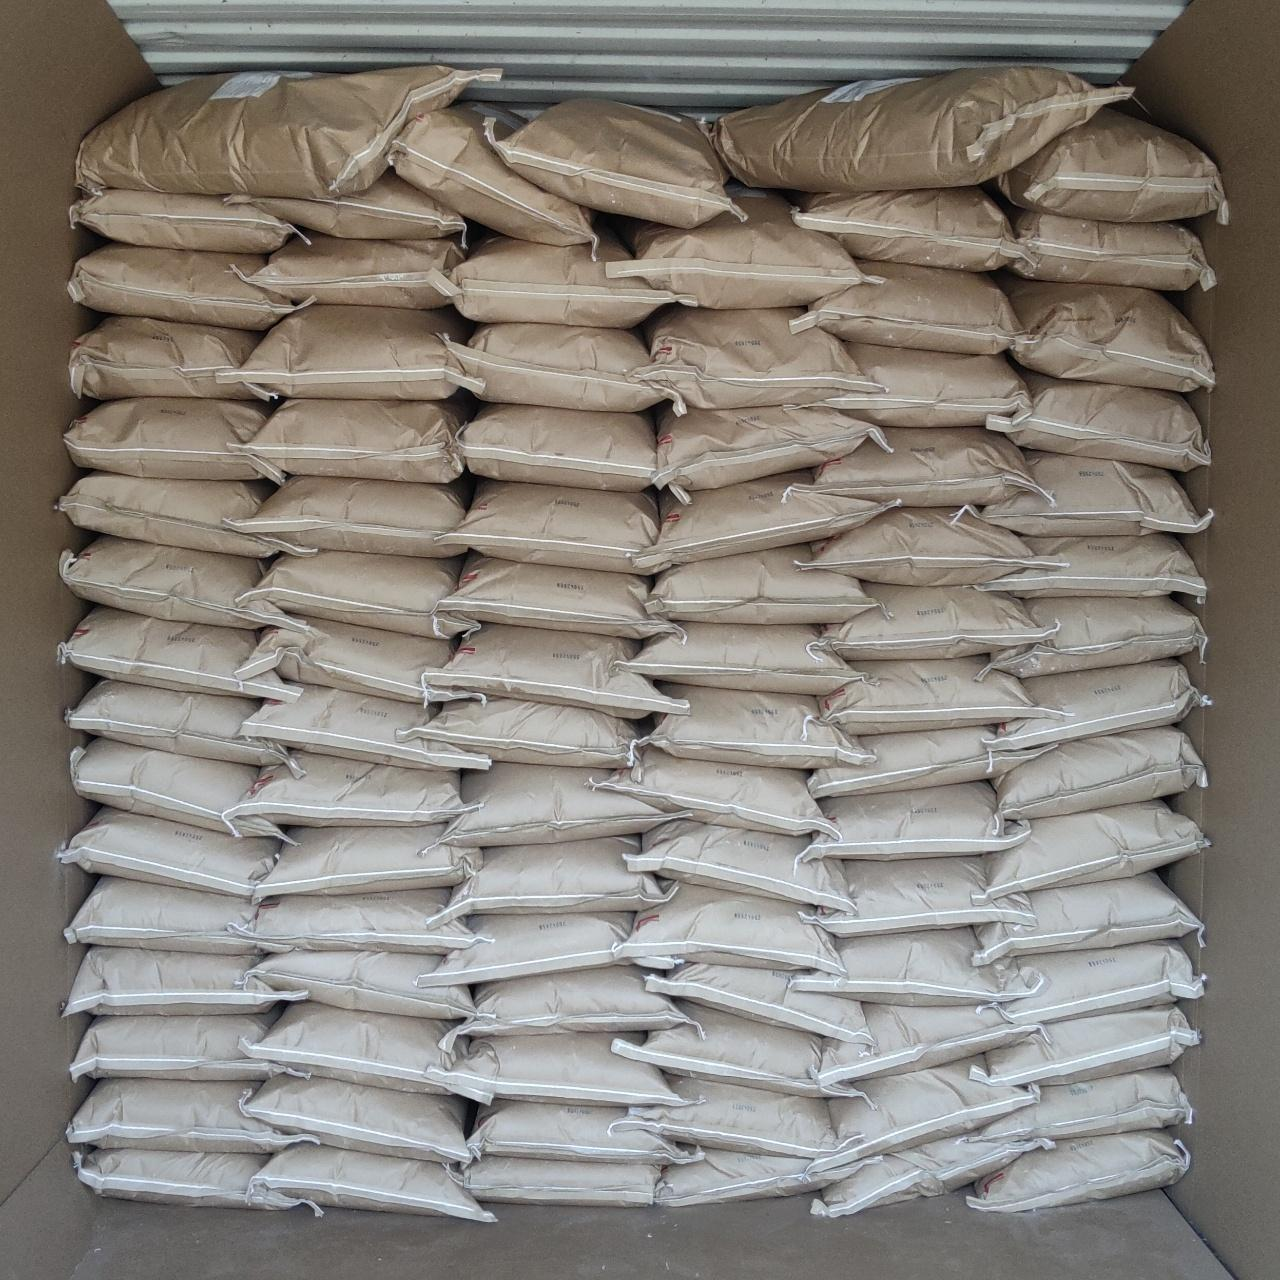sack: (79, 66, 496, 198), (700, 66, 1130, 190), (484, 98, 731, 224), (608, 192, 862, 308), (392, 104, 594, 244), (996, 108, 1228, 222), (217, 302, 482, 400), (1002, 278, 1214, 390), (425, 624, 678, 716), (248, 1002, 484, 1099), (72, 738, 288, 844), (980, 799, 1206, 900), (451, 234, 697, 327), (644, 472, 892, 564), (636, 308, 866, 406), (824, 1058, 1034, 1164), (974, 870, 1201, 966), (62, 536, 294, 629), (988, 372, 1208, 470), (57, 606, 297, 696), (57, 472, 309, 558), (68, 680, 300, 772), (612, 1076, 856, 1164), (594, 745, 835, 835), (445, 324, 685, 413), (954, 452, 1212, 535), (617, 1005, 852, 1094), (236, 617, 476, 702), (438, 481, 662, 572), (241, 1076, 474, 1164), (992, 728, 1206, 822), (656, 406, 886, 492), (240, 685, 486, 765), (440, 554, 678, 638), (792, 263, 1017, 350), (240, 552, 474, 636), (60, 808, 278, 898), (992, 660, 1208, 750), (626, 822, 847, 910), (70, 241, 298, 326), (626, 884, 840, 972), (440, 764, 668, 846), (440, 838, 674, 918), (794, 928, 1039, 1005), (236, 476, 468, 556), (806, 342, 1028, 425), (816, 1136, 1050, 1214), (816, 1002, 1039, 1084), (254, 1144, 493, 1220), (794, 188, 1014, 270), (971, 1130, 1190, 1212), (644, 686, 869, 765), (646, 964, 873, 1042), (982, 598, 1206, 678), (978, 1005, 1198, 1085), (802, 782, 1026, 860), (244, 400, 467, 478), (994, 940, 1206, 1022), (66, 400, 280, 481), (648, 546, 874, 622), (806, 858, 1032, 934), (812, 508, 1040, 583), (816, 658, 1040, 734), (229, 753, 467, 824), (456, 404, 654, 490), (624, 622, 860, 694), (812, 428, 1040, 502), (824, 584, 1050, 658), (442, 1034, 685, 1102), (68, 876, 284, 952), (1006, 207, 1214, 286), (445, 968, 686, 1036), (70, 316, 268, 399), (402, 697, 640, 765), (68, 1080, 298, 1150), (972, 1068, 1190, 1142), (250, 826, 478, 896), (248, 234, 462, 308), (224, 173, 459, 240), (64, 948, 300, 1014), (420, 912, 636, 982), (812, 728, 1036, 796), (250, 952, 481, 1017), (76, 1150, 320, 1212), (467, 1099, 700, 1164), (72, 1014, 304, 1078), (241, 888, 484, 949), (72, 190, 302, 252), (976, 536, 1204, 598), (656, 1148, 850, 1206), (448, 1156, 656, 1204)
